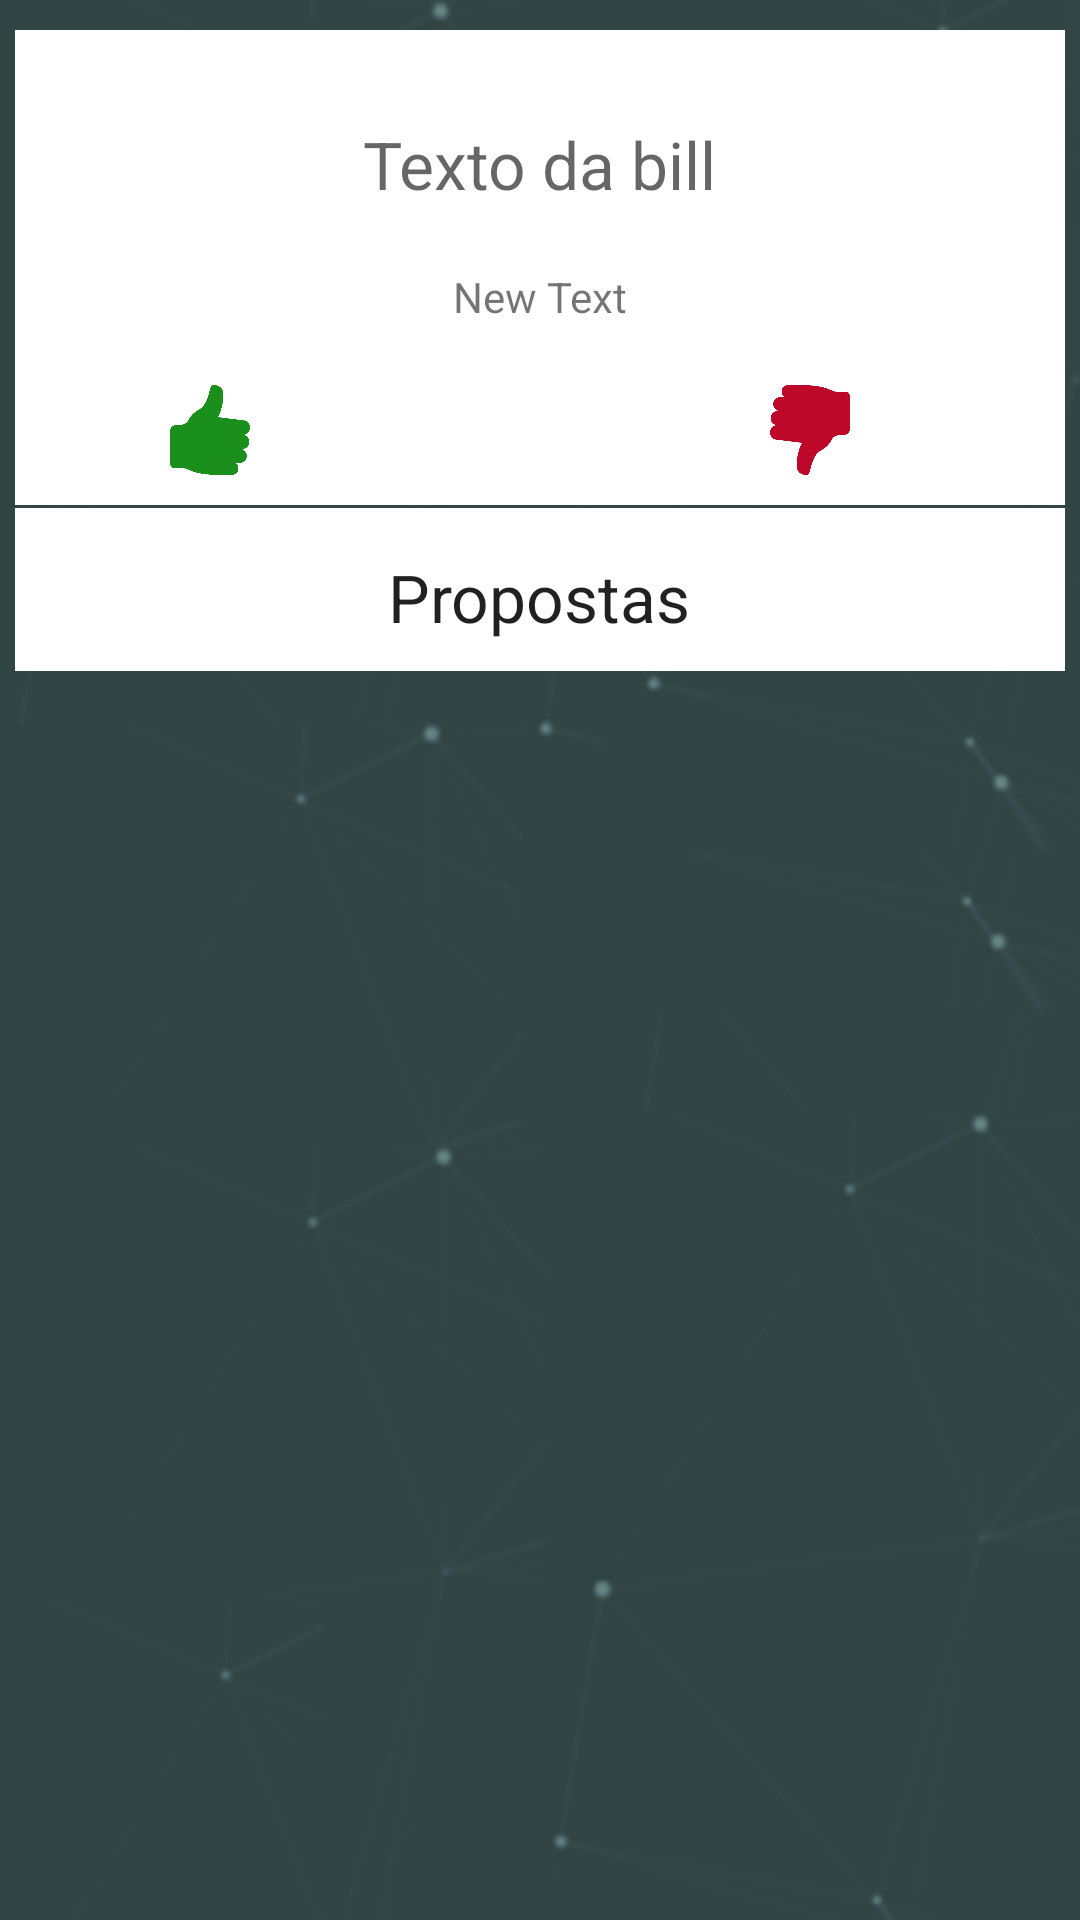

Locate icon controls on the screen. Image size 1080*1920, boxes as [left=x1, top=y1, right=x2, bottom=y2].
dislike: [left=770, top=385, right=850, bottom=475]
like: [left=170, top=385, right=250, bottom=475]
